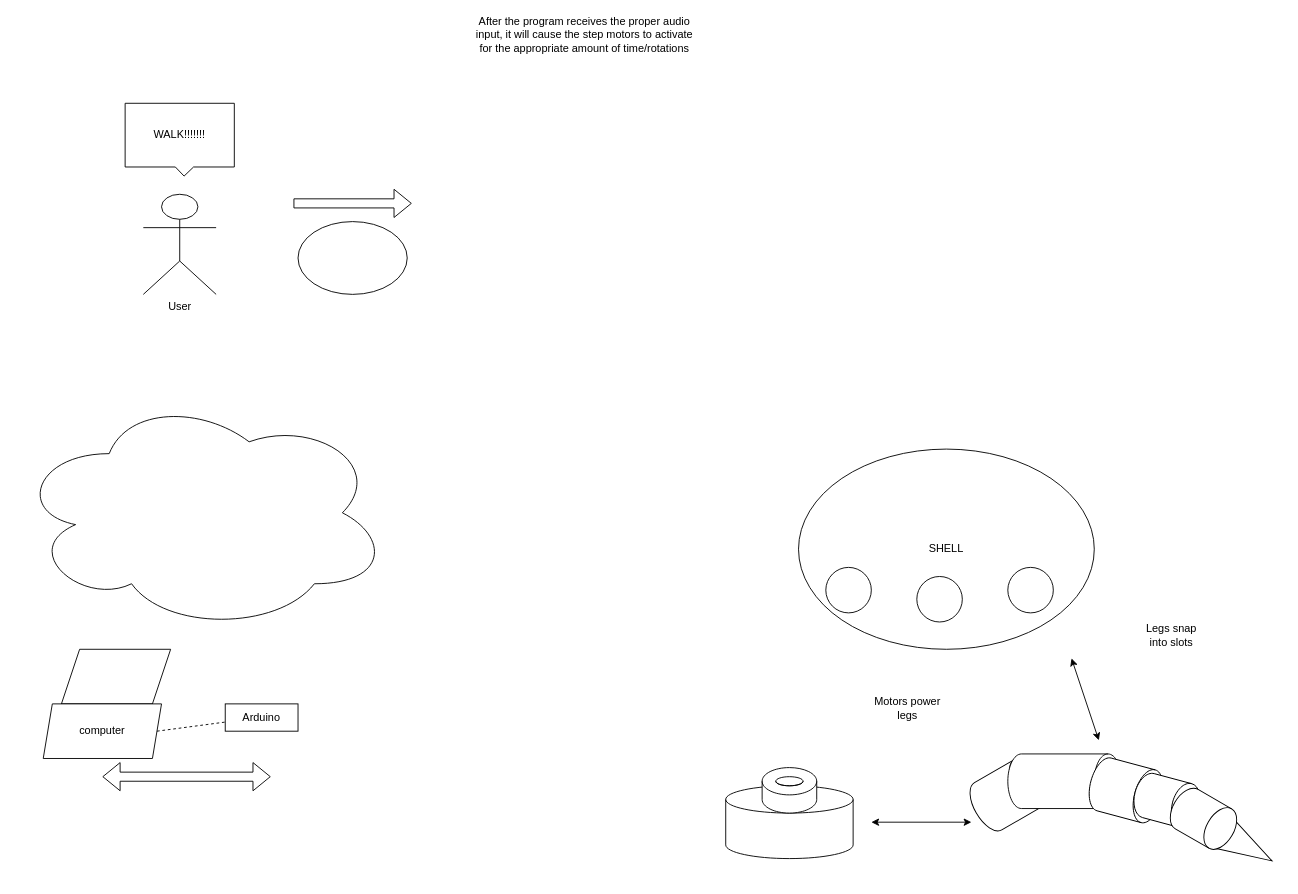
The diagram is 1298 pixels wide and 894 high, and some of its shapes have lost their labels. Each missing label, with the centre of its shape:
*useful code*: (x=202, y=512)
Insect: (x=352, y=257)
